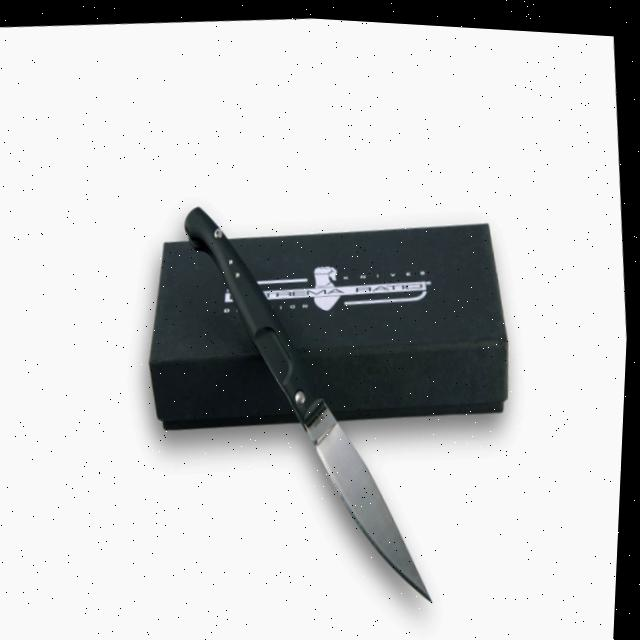knife: (170, 184, 457, 620)
